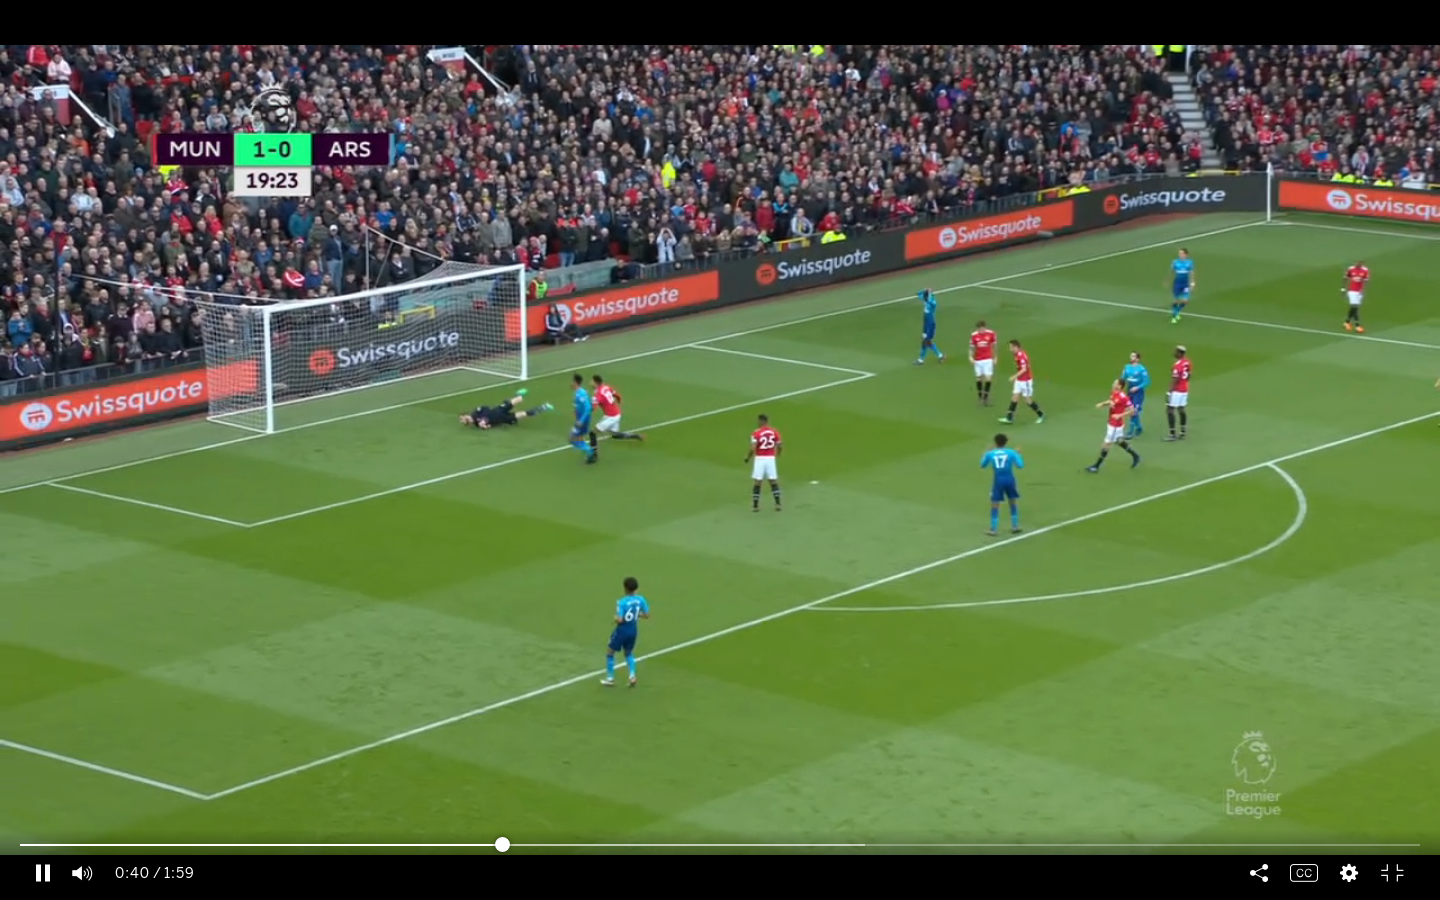soccer player: (596, 572, 659, 699), (735, 411, 787, 523), (587, 368, 650, 454), (455, 386, 559, 434), (984, 428, 1027, 542), (1002, 331, 1050, 428), (1098, 382, 1139, 474), (1161, 343, 1198, 445), (1119, 349, 1155, 443), (1165, 243, 1204, 328), (564, 368, 599, 460), (1338, 257, 1376, 340), (970, 316, 1004, 406), (912, 285, 948, 369)
